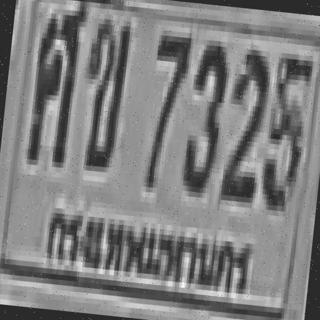A02: (76, 12, 130, 168)
A38: (25, 0, 86, 166)
N02: (218, 43, 270, 198)
N03: (178, 34, 228, 194)
N05: (258, 47, 313, 208)
N07: (141, 29, 190, 190)
P04: (36, 191, 261, 310)
